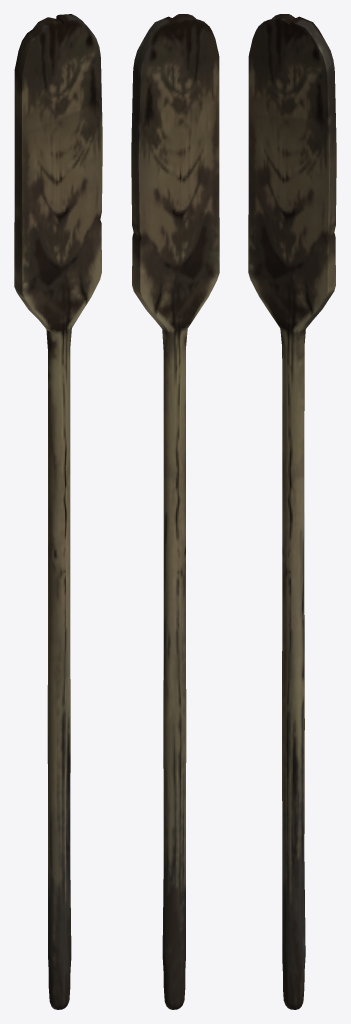
File: weapon-paddle.glb
The picture shows the model from 3 angles, left to right: view 1: azimuth 30°, elevation 25°; view 2: azimuth 210°, elevation 25°; view 3: azimuth 330°, elevation 25°; orthographic projection.
Parts seen in each view (by area): view 1: paddle_MDL_q; view 2: paddle_MDL_q; view 3: paddle_MDL_q.
Boxes of the visible parts, bbox=[...] form: paddle_MDL_q: bbox=[14, 14, 102, 1009]; paddle_MDL_q: bbox=[131, 14, 219, 1009]; paddle_MDL_q: bbox=[248, 14, 336, 1009].
Size of the model in its own units: 0.344 by 3.89 by 0.0729.
Materials: 1 (1 with a texture image).
